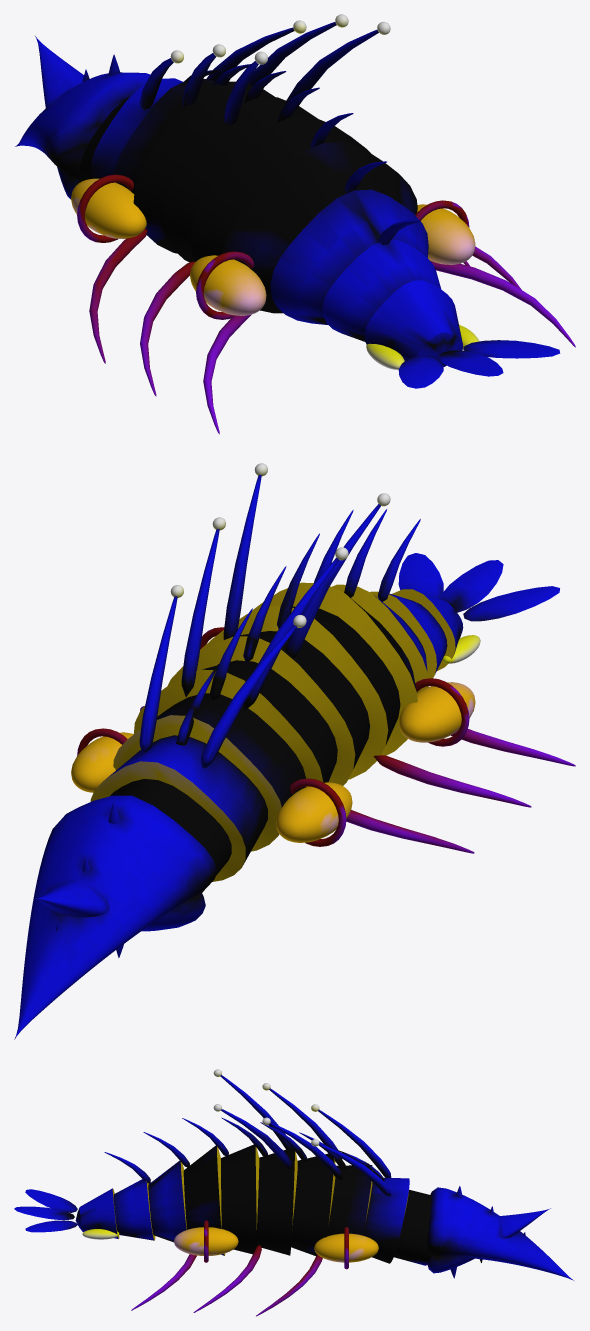
Rendered from craigon_ascendant_ark.fbx.
The picture shows the model from 3 angles, top to bottom: view 1: azimuth 30°, elevation 25°; view 2: azimuth 150°, elevation 25°; view 3: azimuth 270°, elevation 25°; orthographic projection. The views are drawn at different scales.
Parts seen in each view (by area): view 1: craigon_ascendant_ark; view 2: craigon_ascendant_ark; view 3: craigon_ascendant_ark.
Boxes of the visible parts, x1=… form: craigon_ascendant_ark: x1=15, y1=14, x2=575, y2=434; craigon_ascendant_ark: x1=14, y1=463, x2=575, y2=1039; craigon_ascendant_ark: x1=14, y1=1069, x2=573, y2=1316.
Size of the model in its own units: 1.36 by 1.16 by 3.03.
